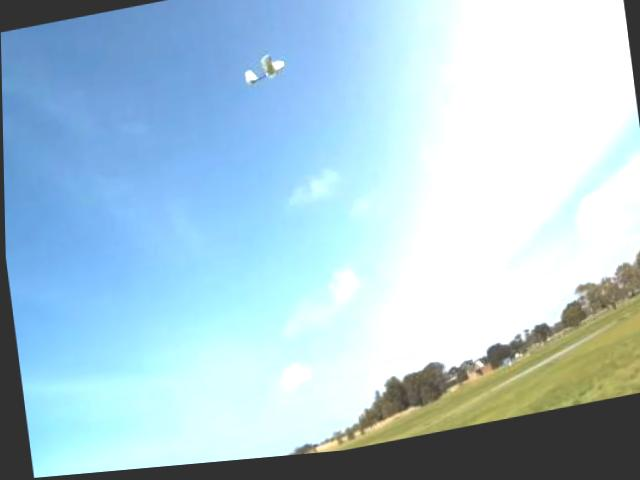uav: (234, 48, 291, 103)
